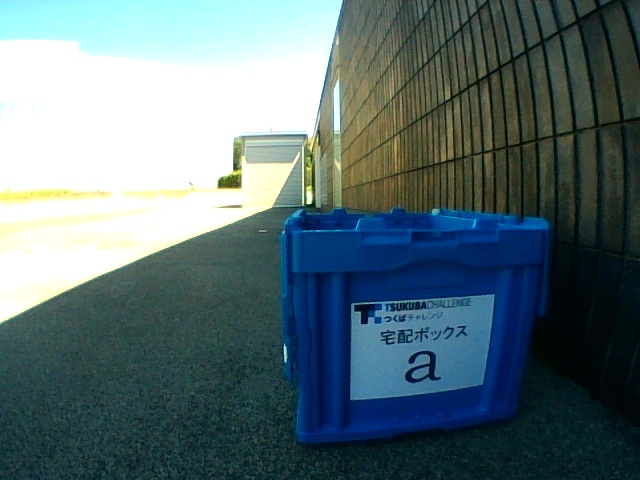blue_box: (280, 207, 549, 443)
tag_a: (358, 305, 479, 386)
